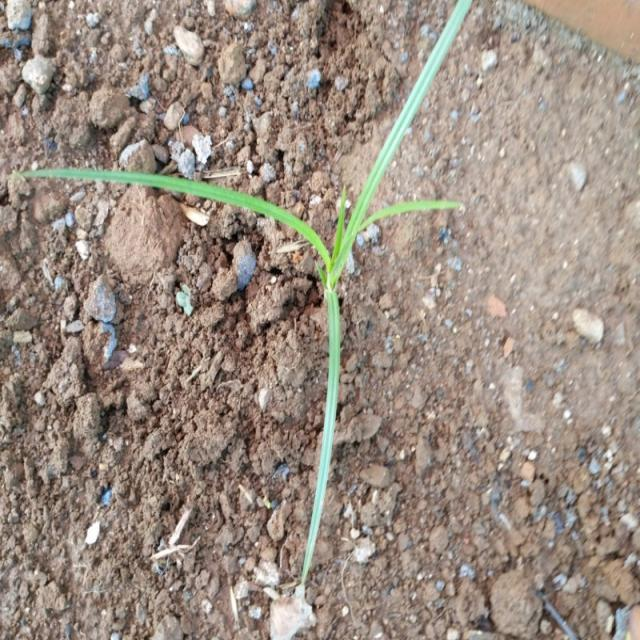sedge: (11, 14, 537, 548)
